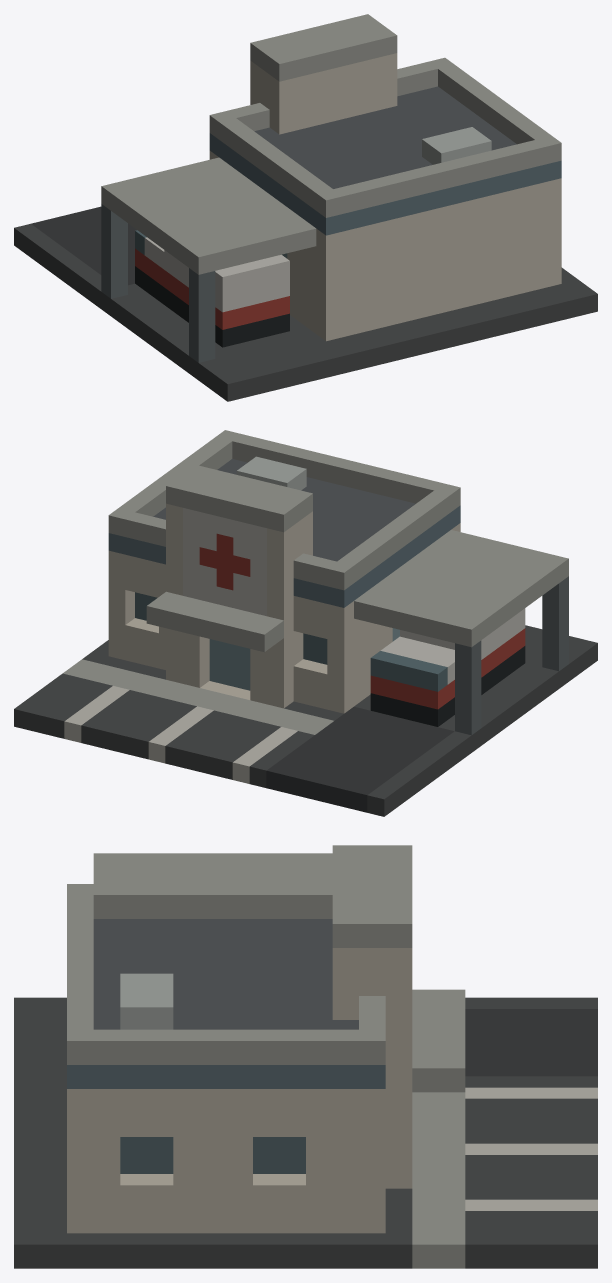
Rendered from Claude_clinic.glb.
3 renders of one model, top to bottom at view 1: azimuth 30°, elevation 25°; view 2: azimuth 150°, elevation 25°; view 3: azimuth 270°, elevation 25°, orthographic. The views are drawn at different scales.
Visible parts, largest first — view 1: Claude_clinic; view 2: Claude_clinic; view 3: Claude_clinic.
Part boxes in pixels (box(x1,y1,x2,y2)): Claude_clinic: box(14, 14, 597, 401); Claude_clinic: box(14, 430, 597, 816); Claude_clinic: box(14, 845, 597, 1268).
Bounding box in the file's own units: 11 × 6 × 11.
